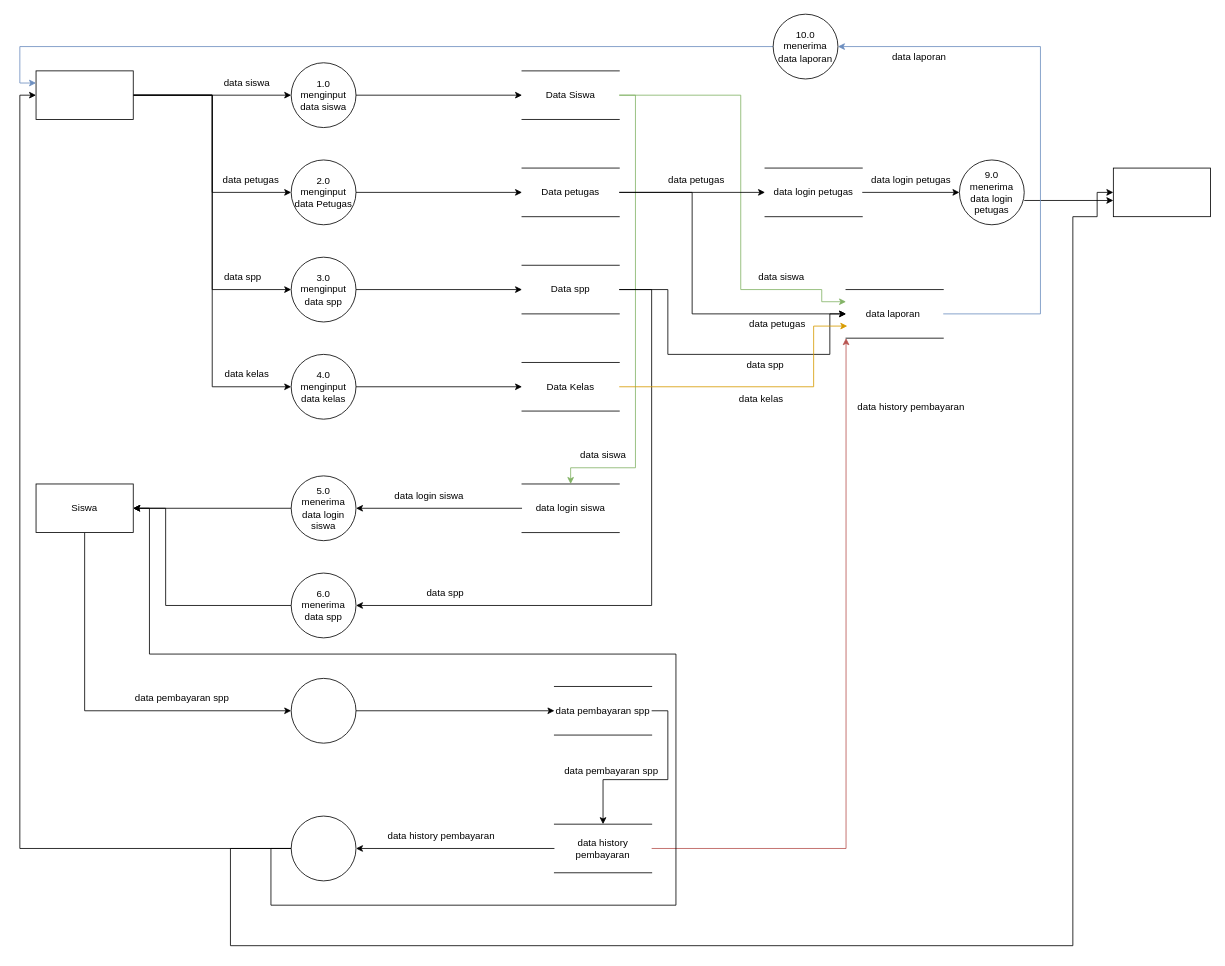
Some shapes in this 1225 by 966 pixel diagram are drawn without their labels. Each missing label, with the box of its shape:
7.0 menginput data pembayaran spp: (290, 678, 356, 743)
8.0 menerima data history pembayaran: (290, 815, 356, 881)
Administrator: (35, 70, 133, 119)
petugas: (1113, 167, 1211, 217)
